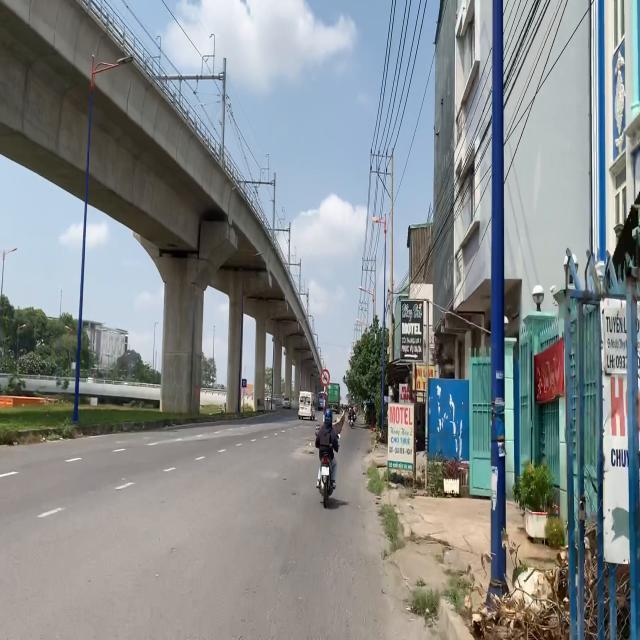Cam con lai: (320, 368, 330, 387)
Chi dan: (242, 378, 247, 388)
